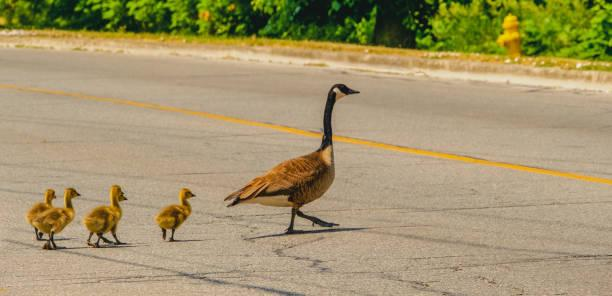Canadian-Goose: (224, 79, 371, 232), (38, 189, 83, 246), (85, 185, 127, 244), (154, 187, 196, 241), (25, 186, 58, 215)
